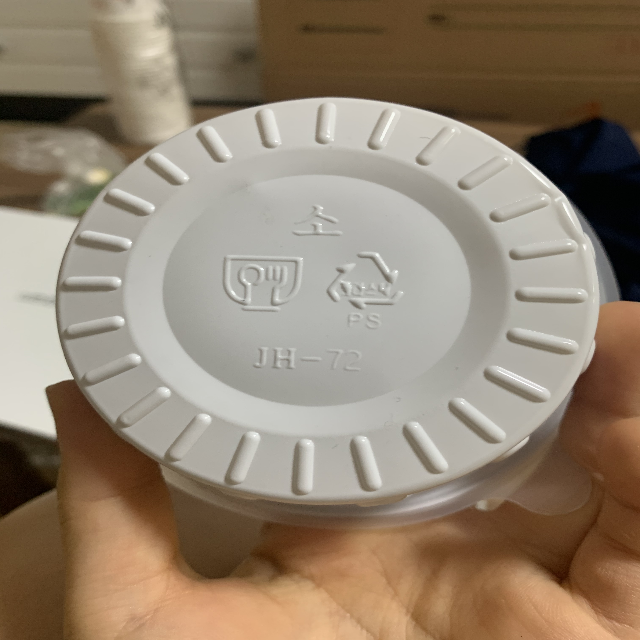ps: (325, 245, 404, 330)
